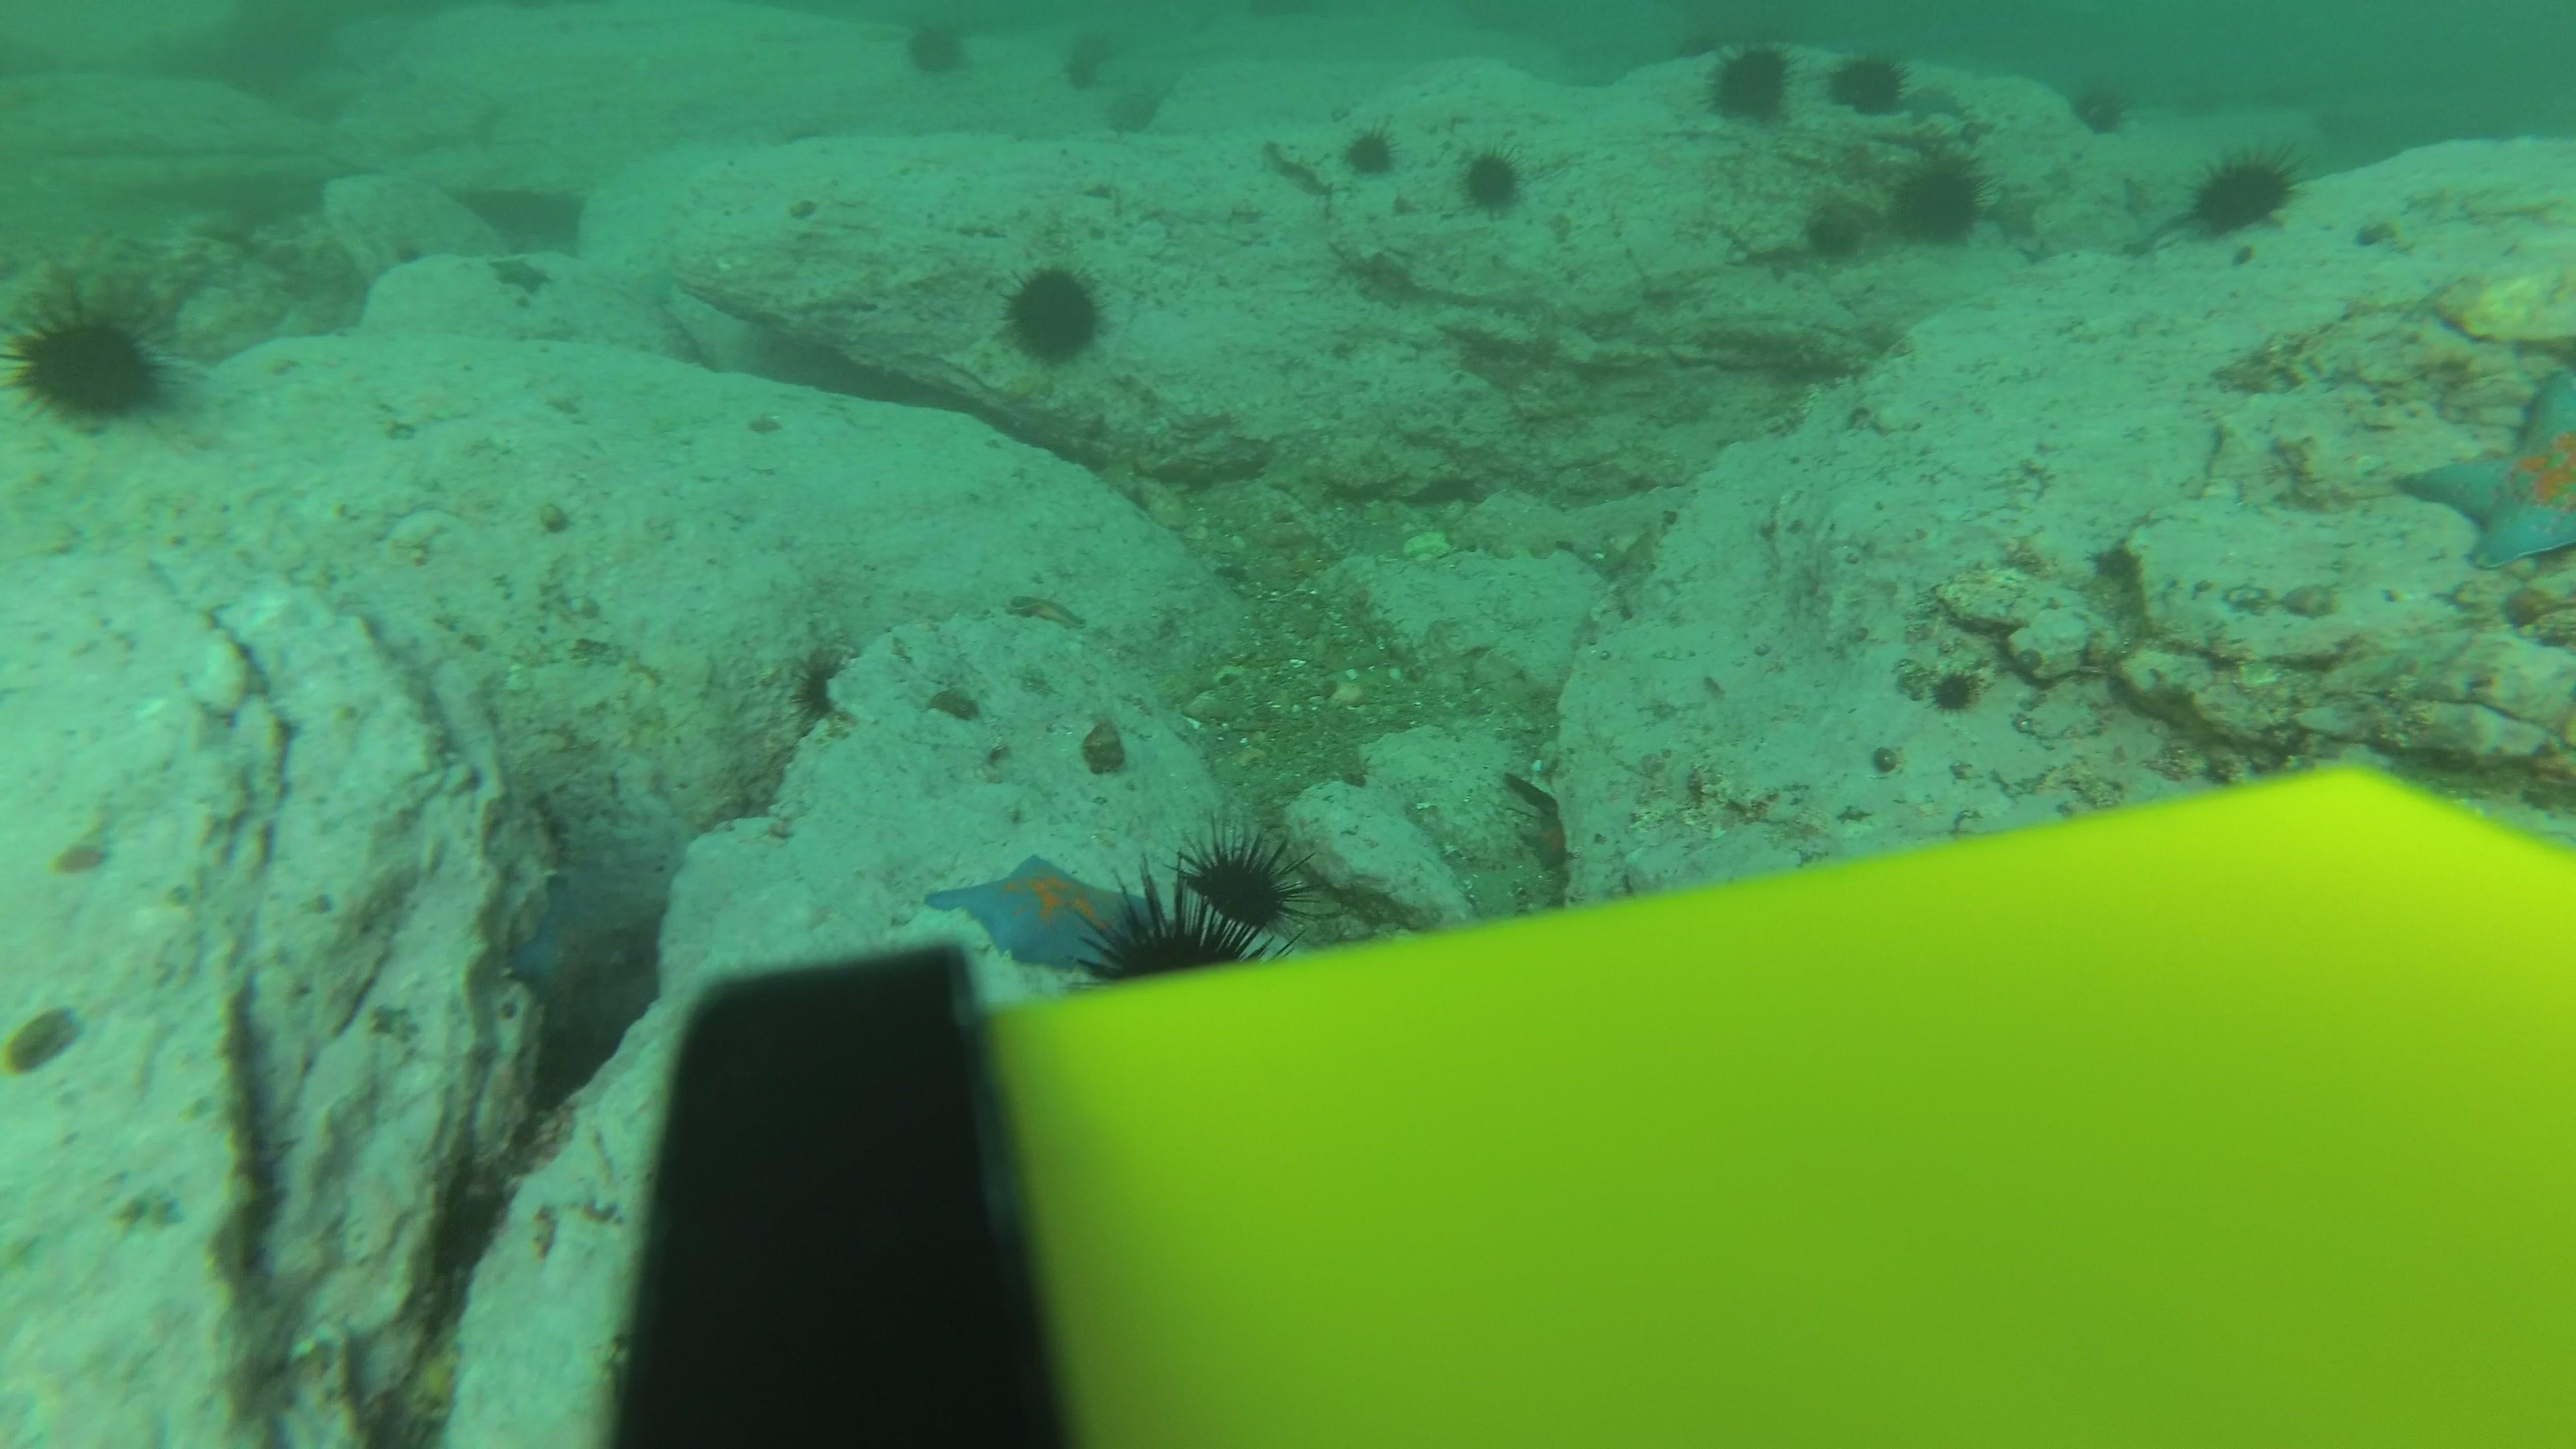echinus: (9, 288, 177, 432), (1083, 878, 1269, 985), (1177, 828, 1307, 941), (998, 260, 1111, 370), (2181, 143, 2304, 242), (1888, 152, 1990, 248), (1698, 39, 1798, 127), (1826, 48, 1913, 119), (1454, 142, 1530, 218), (899, 16, 975, 83), (1798, 195, 1870, 264), (2066, 74, 2134, 138), (1339, 120, 1399, 180), (1927, 660, 1987, 718), (1062, 32, 1106, 97)
starfish: (2392, 357, 2576, 577), (499, 856, 665, 1039), (920, 849, 1145, 977), (1504, 764, 1580, 885), (1005, 584, 1088, 635), (1985, 186, 2049, 249), (1898, 76, 1973, 126), (488, 249, 556, 303)
